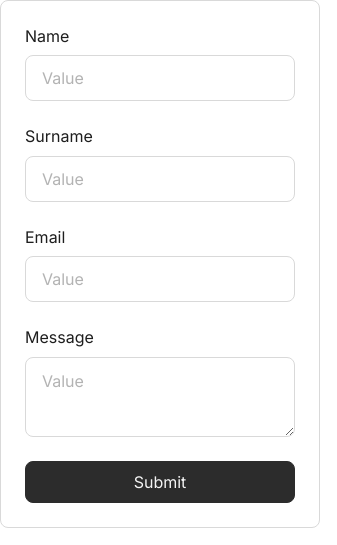
it: ContactForm › 正常送信後に成功メッセージが表示され、フォームが非表示になる
Type "Taro" into the field labelled "Name" at (160, 78), box [25,55,295,101]
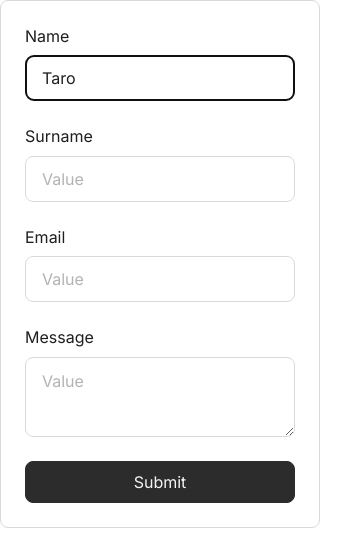
Type "Yamada" into the field labelled "Surname" at (160, 179), box [25,156,295,202]
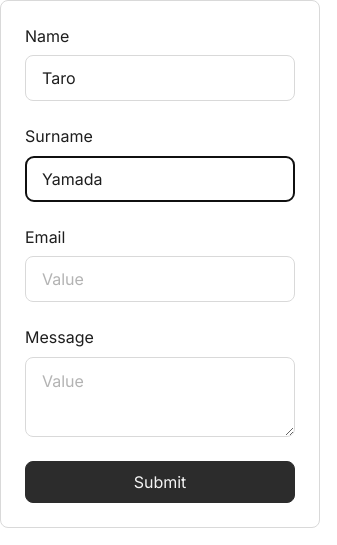
Type "taro@example.com" into the field labelled "Email" at (160, 279), box [25,256,295,302]
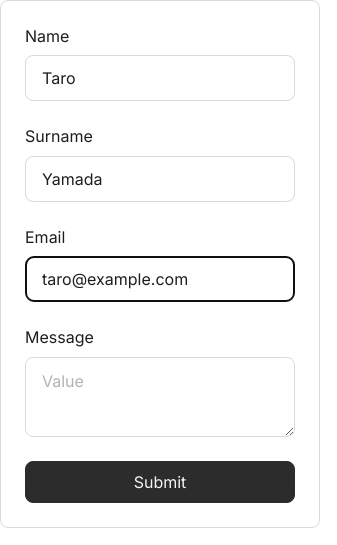
Type "お問い合わせ内容です。" into the text box labelled "Message" at (160, 397), box [25,357,295,437]
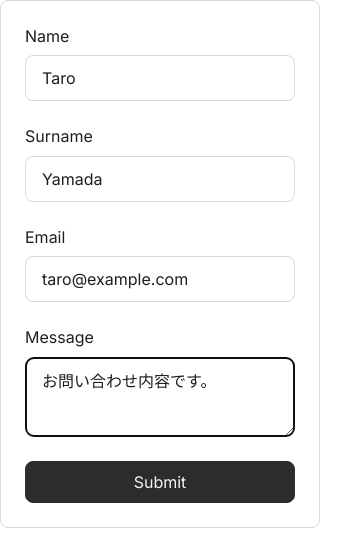
Click the button "Submit" at (160, 482), box [25,461,295,503]
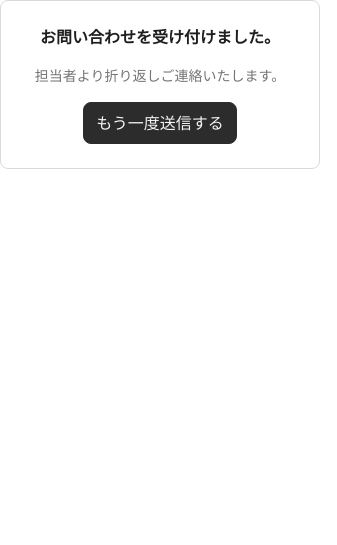
Check: the text "お問い合わせを受け付けました。" is shown, box [40,25,280,49]
Check: the label labelled "Name" is gone
